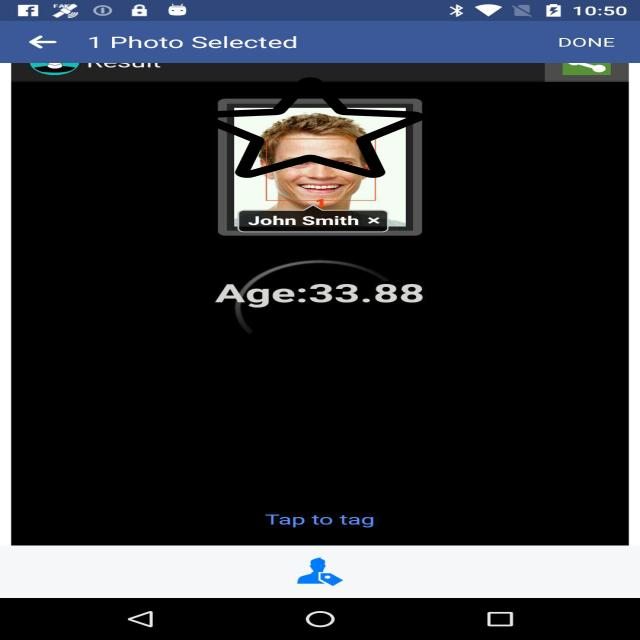forced continuity: (196, 75, 424, 180)
